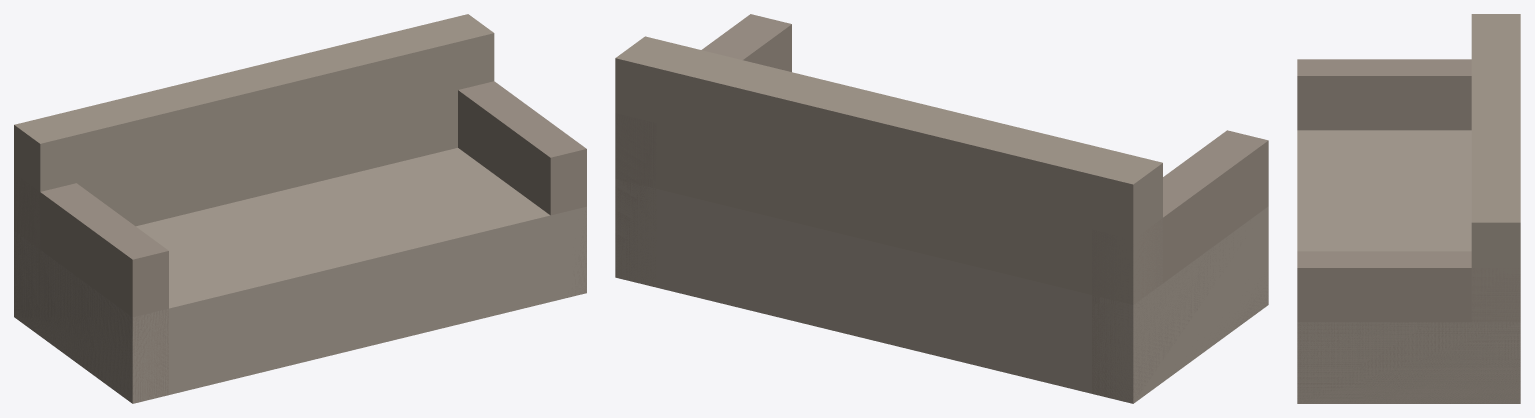
File: cat_sofa_nordic-3seat.glb
3 renders of one model, left to right at view 1: azimuth 30°, elevation 25°; view 2: azimuth 150°, elevation 25°; view 3: azimuth 270°, elevation 25°, orthographic. The views are drawn at different scales.
Visible parts, largest first — view 1: geometry_0, geometry_1, geometry_2, geometry_3; view 2: geometry_1, geometry_0, geometry_2, geometry_3; view 3: geometry_0, geometry_3, geometry_1, geometry_2.
Part boxes in pixels (x1,y1,x2,y2): geometry_0: (14, 148, 586, 403); geometry_1: (14, 14, 494, 249); geometry_2: (14, 174, 168, 403); geometry_3: (458, 81, 586, 297); geometry_1: (615, 36, 1162, 304); geometry_0: (615, 179, 1268, 403); geometry_2: (1092, 130, 1268, 403); geometry_3: (615, 14, 791, 286); geometry_0: (1297, 130, 1520, 403); geometry_3: (1297, 251, 1520, 403); geometry_1: (1471, 14, 1520, 322); geometry_2: (1297, 59, 1471, 130).
Bounding box in the file's own units: 2.1 × 0.85 × 0.95.
